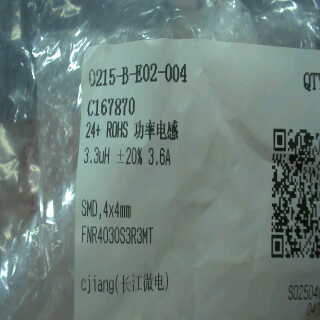3.3uH: (78, 141, 112, 168)
